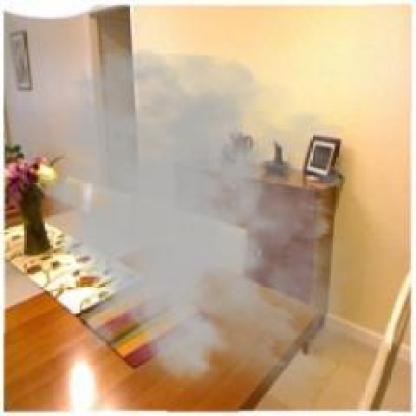Smoke: (25, 47, 388, 414)
